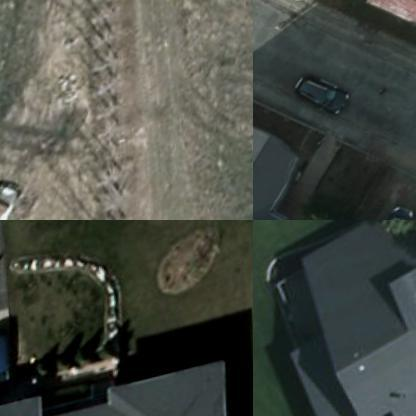car: (288, 64, 358, 128), (0, 173, 42, 219), (0, 329, 23, 405), (370, 201, 415, 219)
